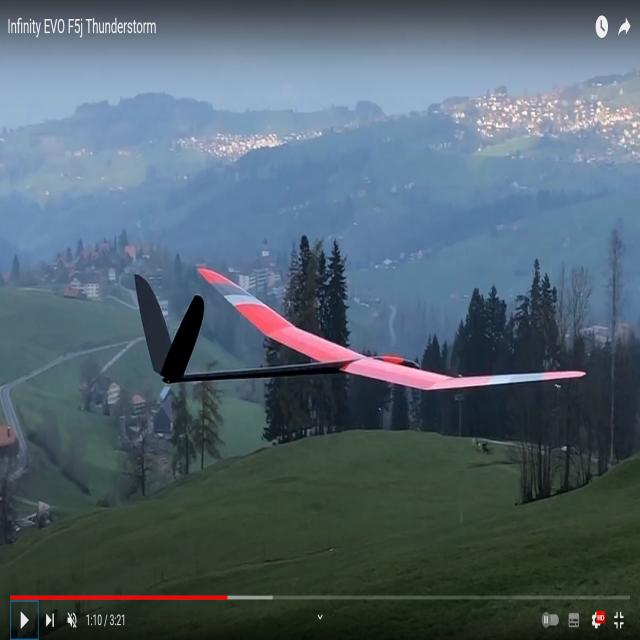iha: (136, 264, 588, 407)
